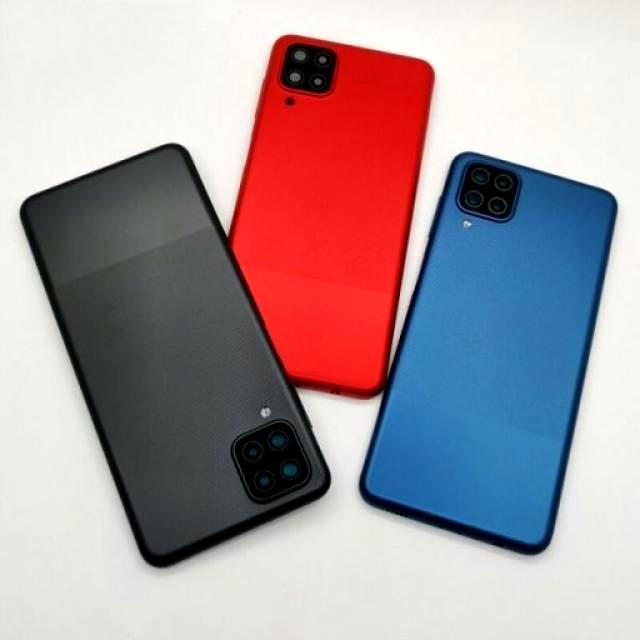lens_back: (459, 187, 486, 216), (485, 192, 508, 224), (288, 44, 314, 72), (280, 452, 302, 485), (264, 424, 288, 454), (239, 434, 262, 465), (278, 67, 306, 89), (467, 162, 488, 191), (311, 47, 334, 70), (491, 167, 514, 190), (256, 468, 274, 494), (308, 72, 326, 95)
phone: (20, 141, 334, 573), (354, 146, 619, 557), (213, 30, 438, 401)
